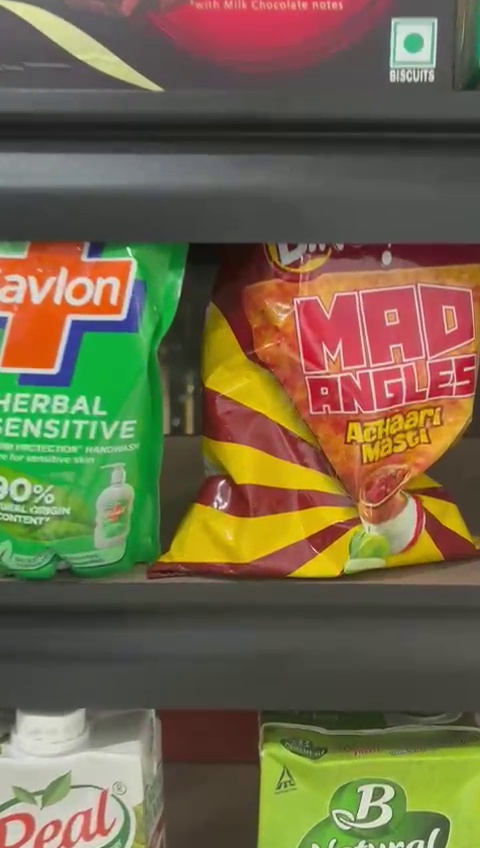Bingo Mad Angles: (166, 244, 473, 583)
